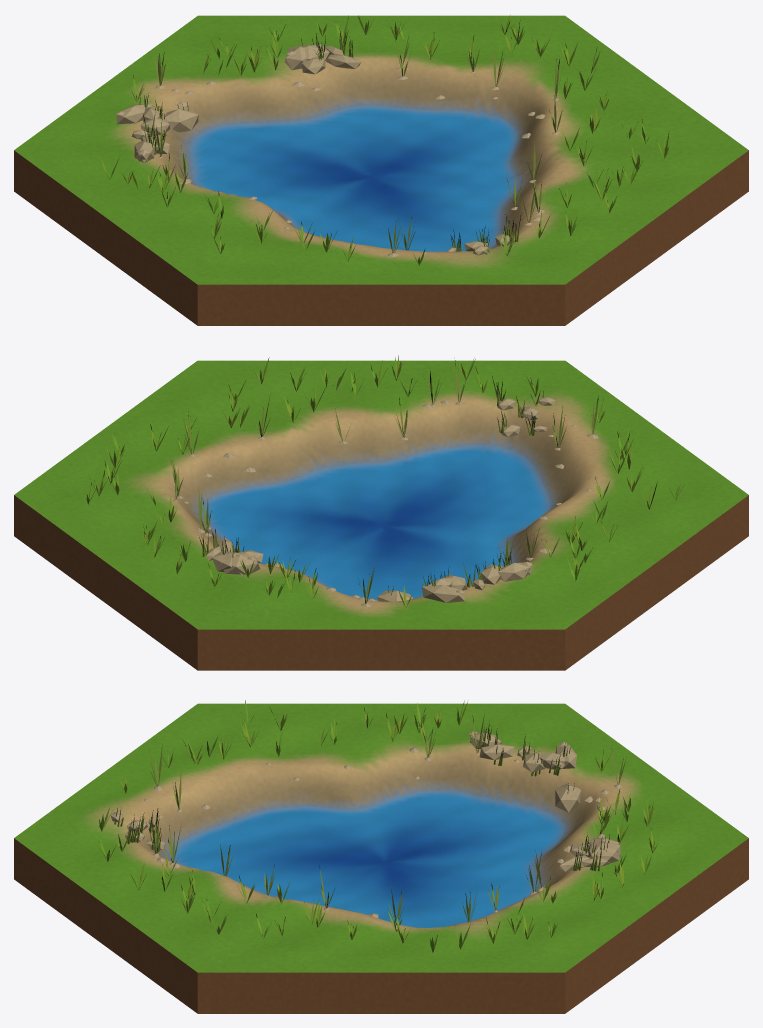
File: SM_LagoNatural_A_Detalle_LOD0.fbx
The picture shows the model from 3 angles, top to bottom: view 1: azimuth 30°, elevation 25°; view 2: azimuth 150°, elevation 25°; view 3: azimuth 270°, elevation 25°; orthographic projection.
Parts seen in each view (by area): view 1: SM_LagoNatural_A_Detalle_LOD0; view 2: SM_LagoNatural_A_Detalle_LOD0; view 3: SM_LagoNatural_A_Detalle_LOD0.
Part boxes in pixels (x1=…): SM_LagoNatural_A_Detalle_LOD0: x1=14, y1=15, x2=748, y2=325; SM_LagoNatural_A_Detalle_LOD0: x1=14, y1=355, x2=748, y2=670; SM_LagoNatural_A_Detalle_LOD0: x1=14, y1=700, x2=748, y2=1013.
Bounding box in the file's own units: 1.68 × 0.2489 × 1.94.
1 material, 1 textured.
